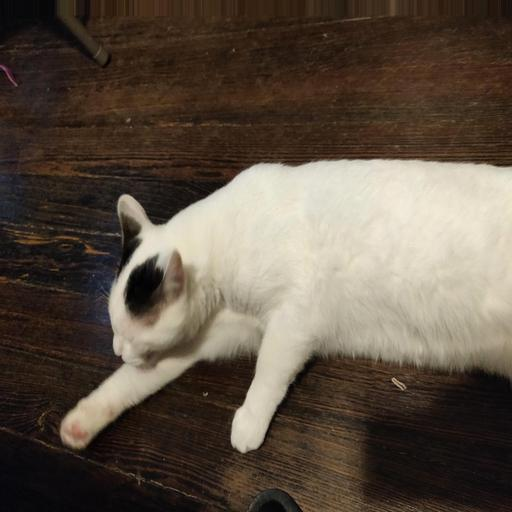cat: (64, 138, 381, 455)
